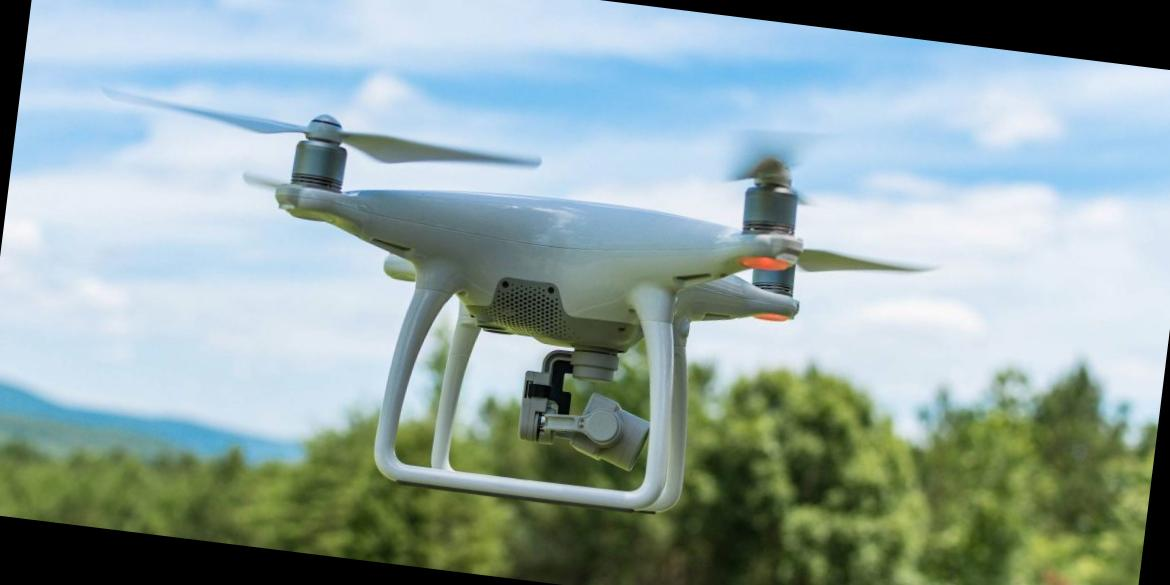drone: (162, 52, 997, 505)
